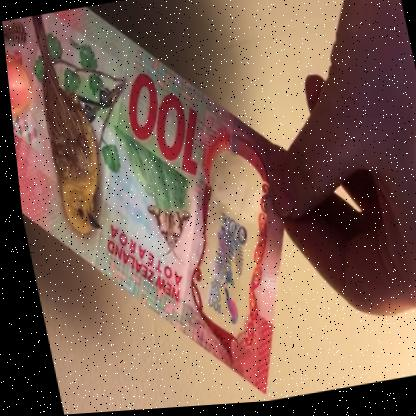100B: (181, 205, 264, 338)
